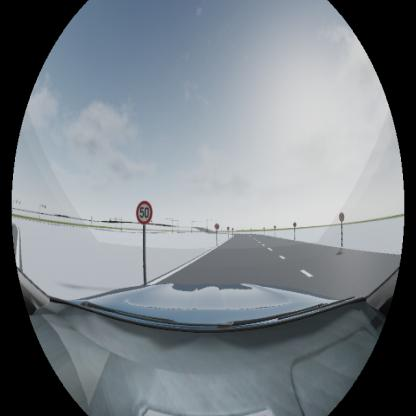Speed Limit 50: (136, 201, 153, 224)
